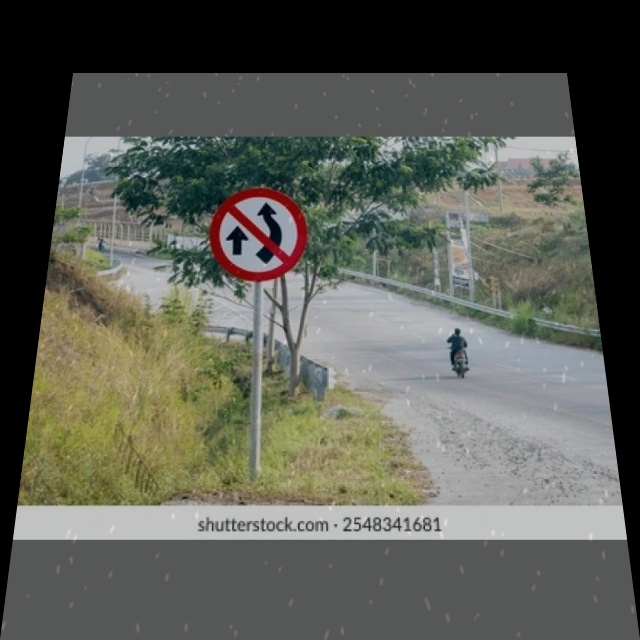Overtaking_Prohibited: (210, 186, 306, 280)
